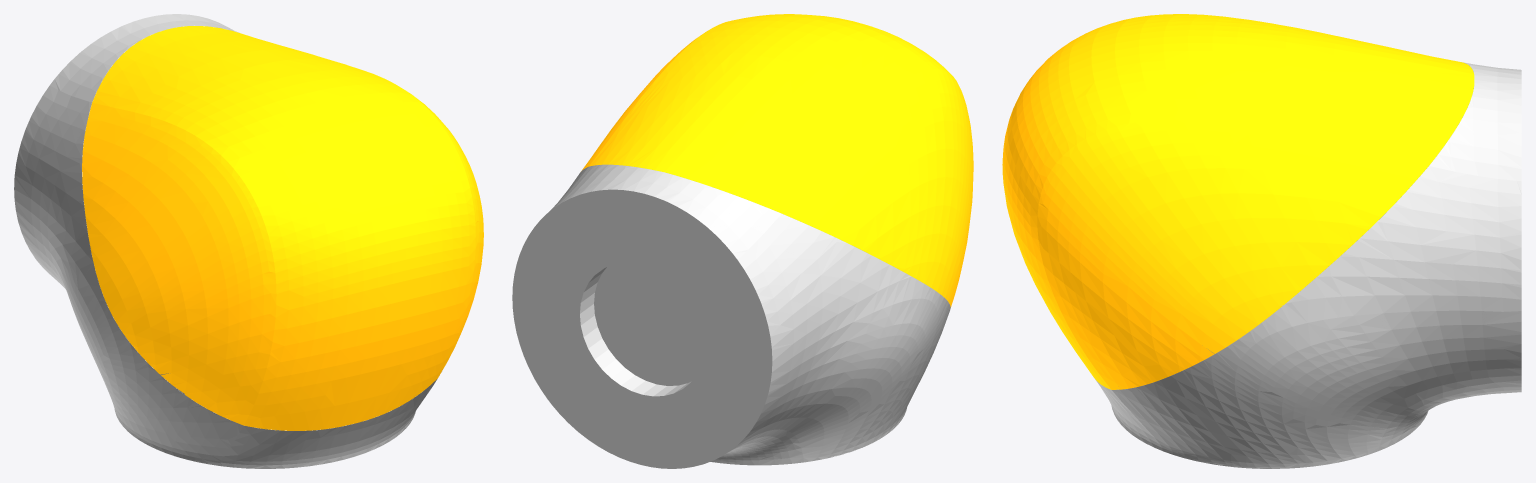
3 renders of one model, left to right at view 1: azimuth 30°, elevation 25°; view 2: azimuth 150°, elevation 25°; view 3: azimuth 270°, elevation 25°, orthographic. The views are drawn at different scales.
Visible parts, largest first — view 1: Link_6_001, Link_6; view 2: Link_6, Link_6_001; view 3: Link_6_001, Link_6.
Boxes of the visible parts, <box> form: Link_6_001: <box>82,26,483,430</box>; Link_6: <box>14,14,437,468</box>; Link_6: <box>512,164,950,468</box>; Link_6_001: <box>582,14,973,307</box>; Link_6_001: <box>1002,14,1474,389</box>; Link_6: <box>1095,62,1521,468</box>.
Bounding box in the file's own units: 0.1323 × 0.1674 × 0.1376.
